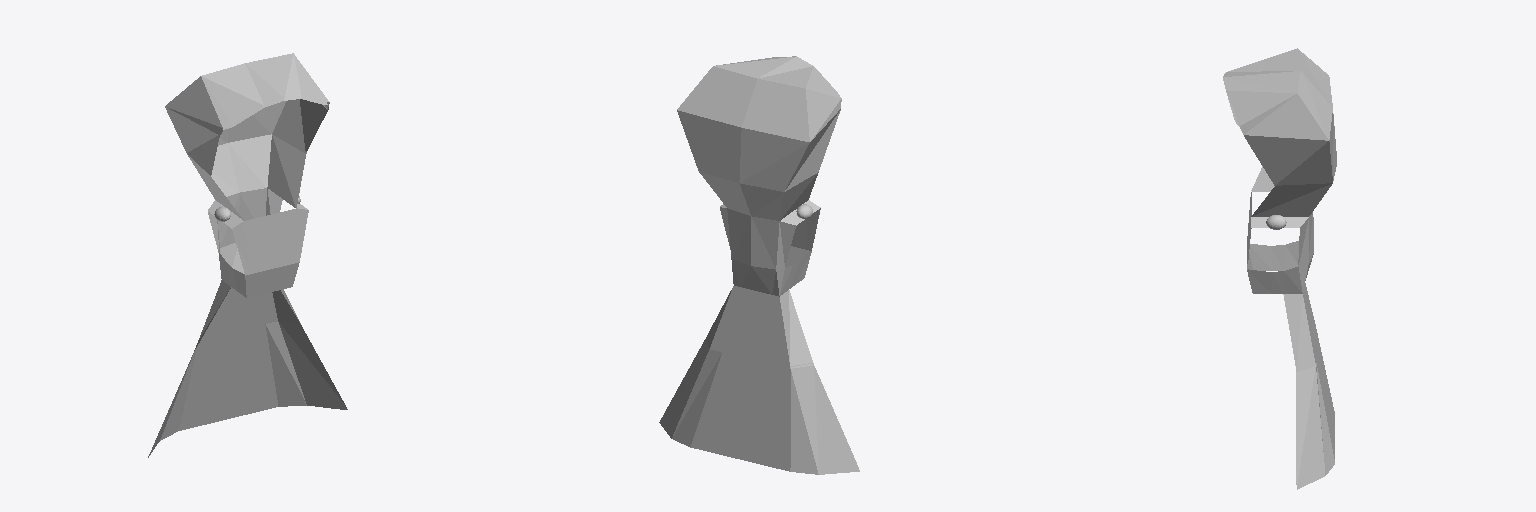
File: RangerHood.obj
3 renders of one model, left to right at view 1: azimuth 30°, elevation 25°; view 2: azimuth 150°, elevation 25°; view 3: azimuth 270°, elevation 25°, orthographic.
Parts seen in each view (by area): view 1: pasted__pPlane3 group, pPlane3; view 2: pPlane3, pasted__pPlane3 group; view 3: pPlane3, pasted__pPlane3 group.
Part boxes in pixels (x1,y1,x2,y2): pasted__pPlane3 group: (150, 97, 345, 452); pPlane3: (148, 53, 347, 457); pPlane3: (659, 56, 859, 474); pasted__pPlane3 group: (785, 209, 856, 462); pPlane3: (1223, 48, 1336, 489); pasted__pPlane3 group: (1235, 121, 1301, 484).
Size of the model in its own units: 1.78 by 3.13 by 0.8807.